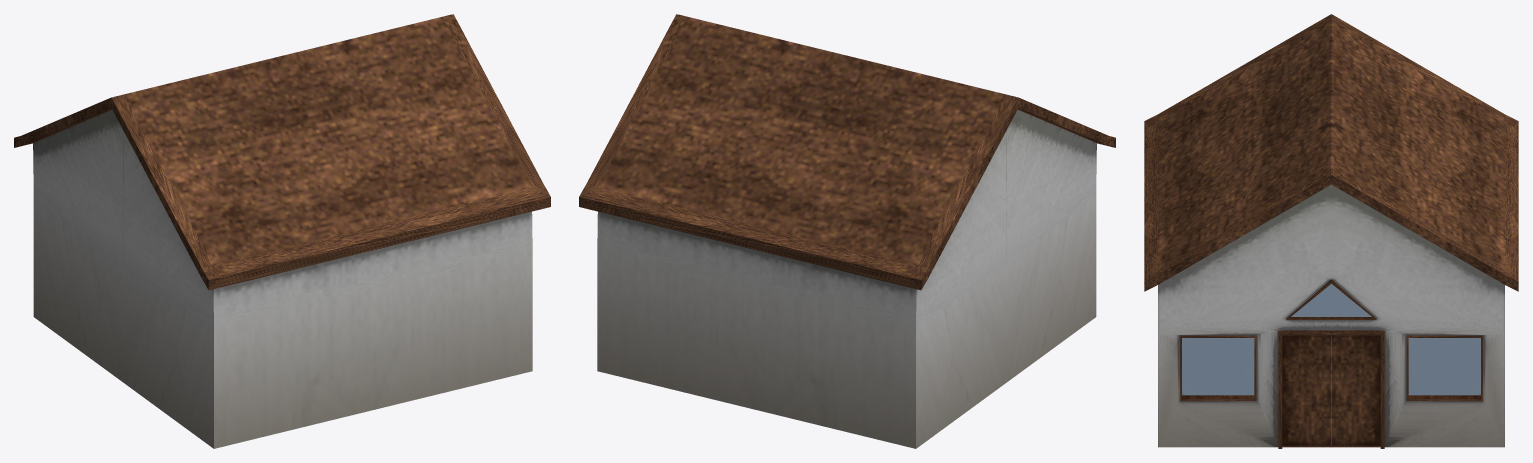
File: Domd.fbx
3 views of the same model, side by side, from view 1: azimuth 30°, elevation 25°; view 2: azimuth 150°, elevation 25°; view 3: azimuth 270°, elevation 25° (orthographic). The views are drawn at different scales.
Visible parts, largest first — view 1: Cube; view 2: Cube; view 3: Cube.
Part boxes in pixels (x1=…): Cube: x1=14, y1=14, x2=550, y2=448; Cube: x1=579, y1=14, x2=1115, y2=448; Cube: x1=1144, y1=14, x2=1518, y2=448.
Bounding box in the file's own units: 0.8844 × 0.7127 × 0.8713.
Materials: 1 (1 with a texture image).
